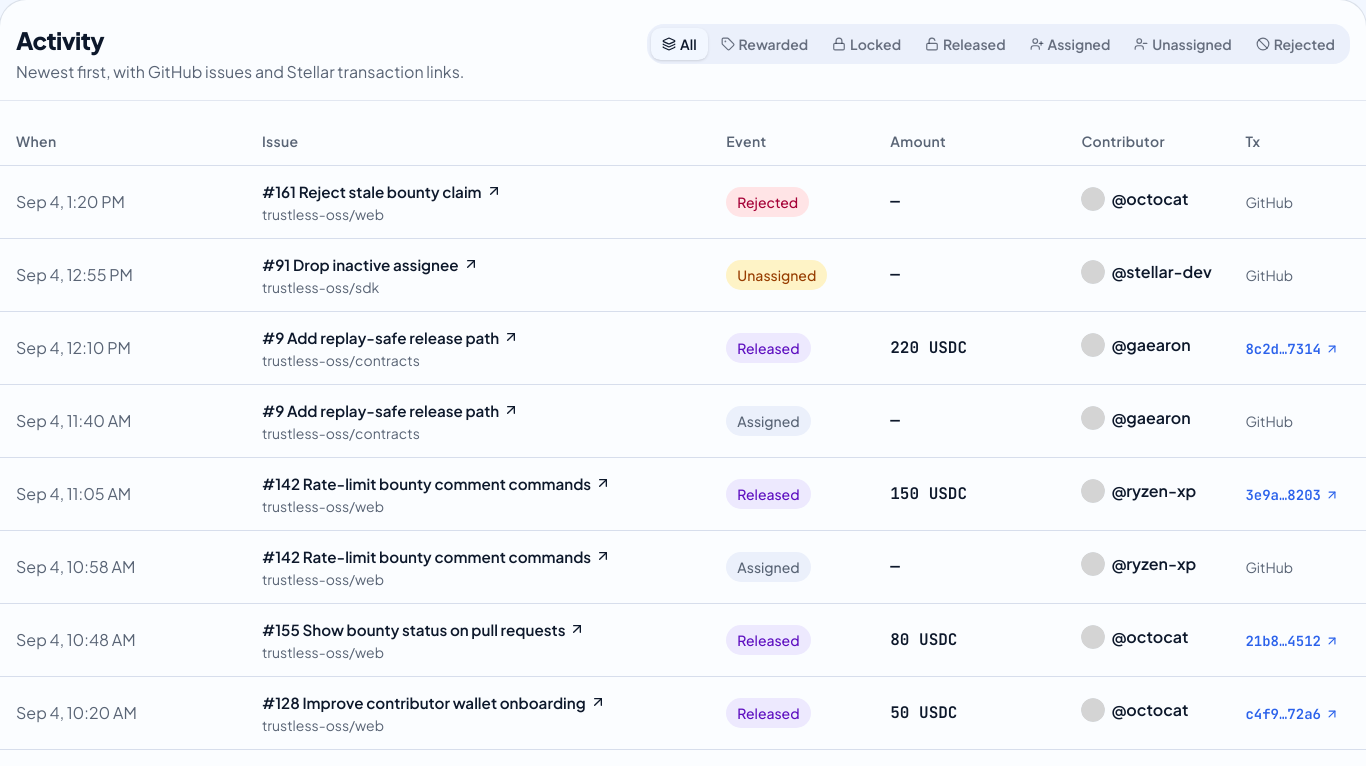
Test: TransactionHistory › can filter to rejected and unassigned logs
The width and height of the screenshot is (1366, 766).
What coordinates should you click on to do the following:
click the tab "Rejected"
I would click on:
 (1295, 44)
Its box is [1245,28,1346,60].
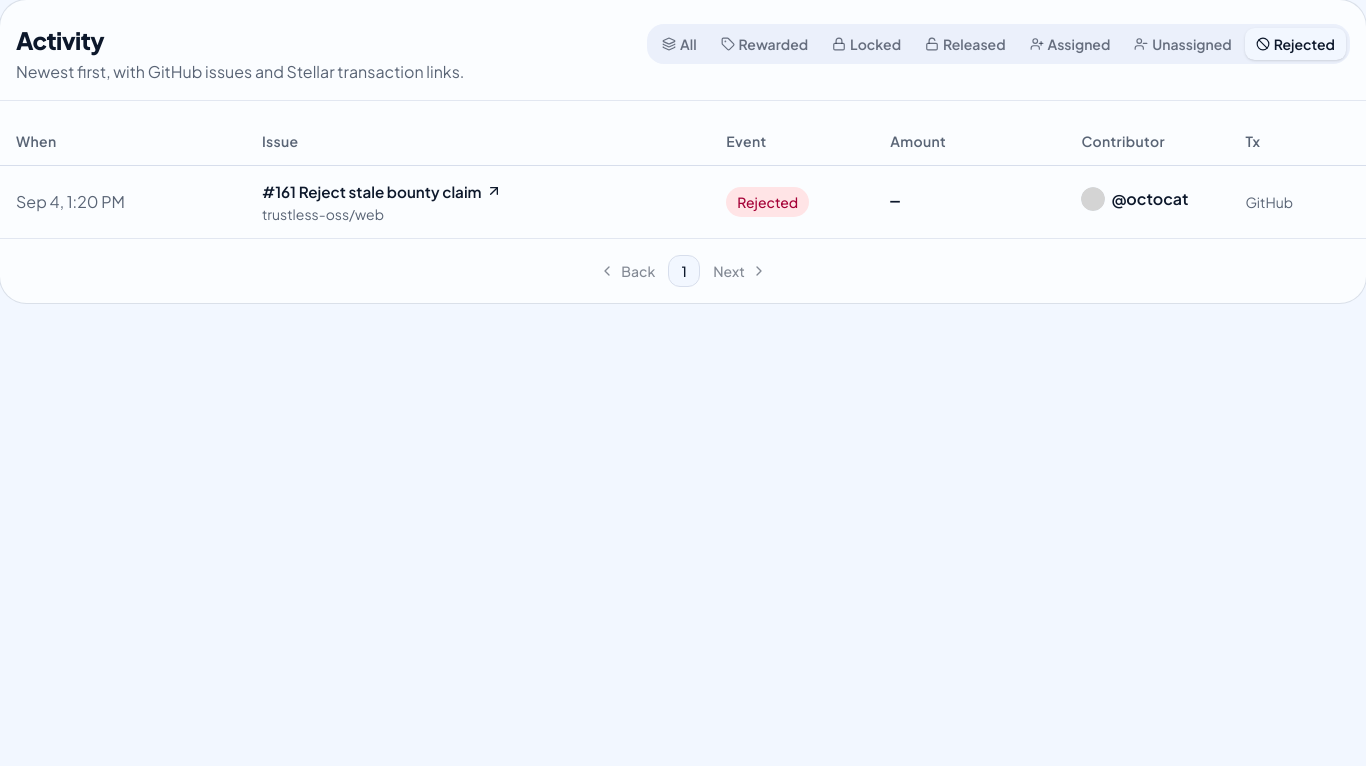
What coordinates should you click on to do the following:
click the tab "Unassigned"
I would click on:
 (1183, 44)
Its box is [1123,28,1243,60].
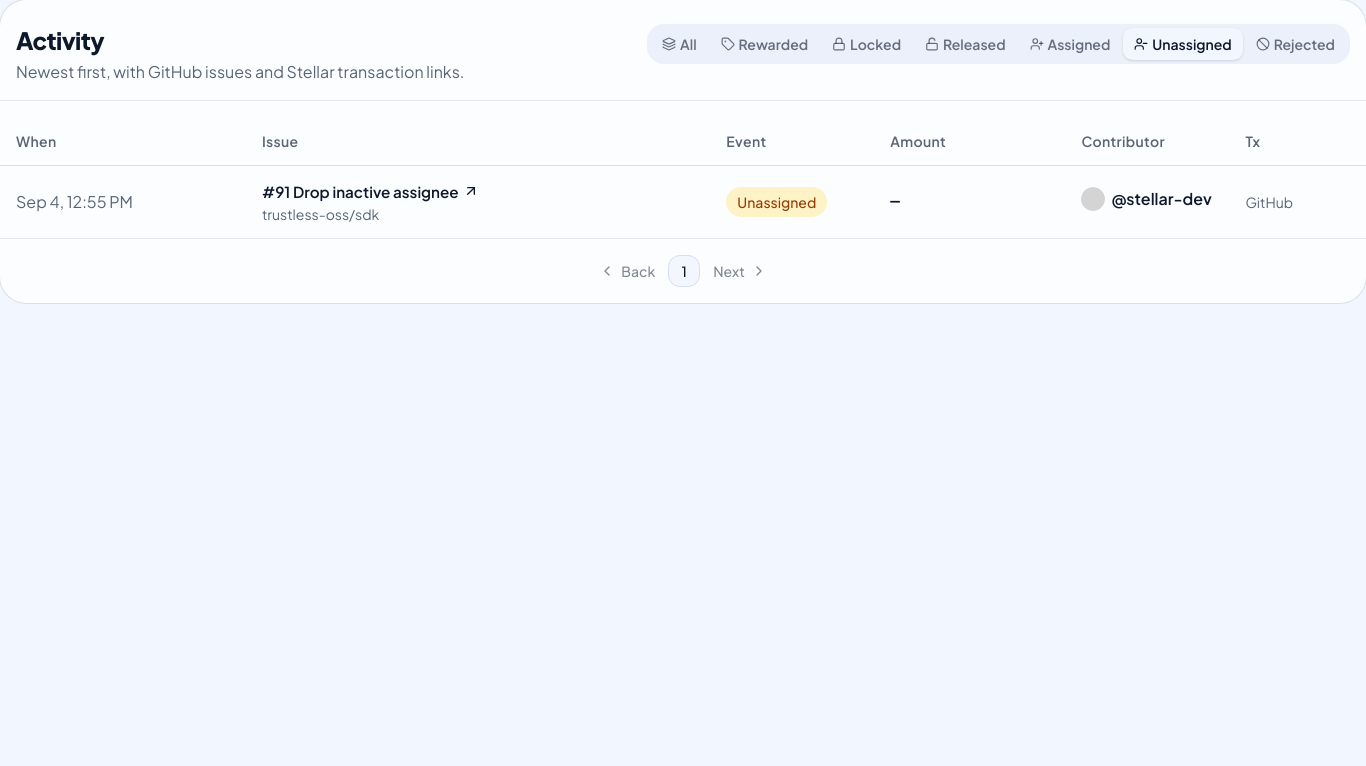
Now the link "#161 Reject stale bounty claim" is gone
